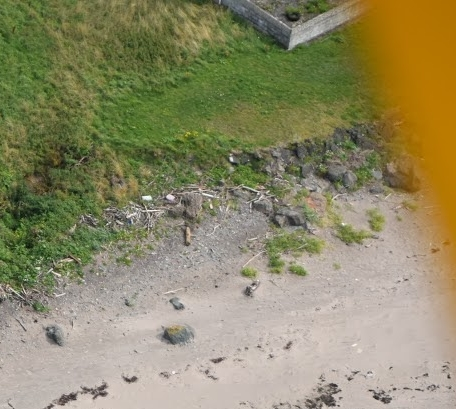scattered_barrel: (129, 180, 200, 251)
